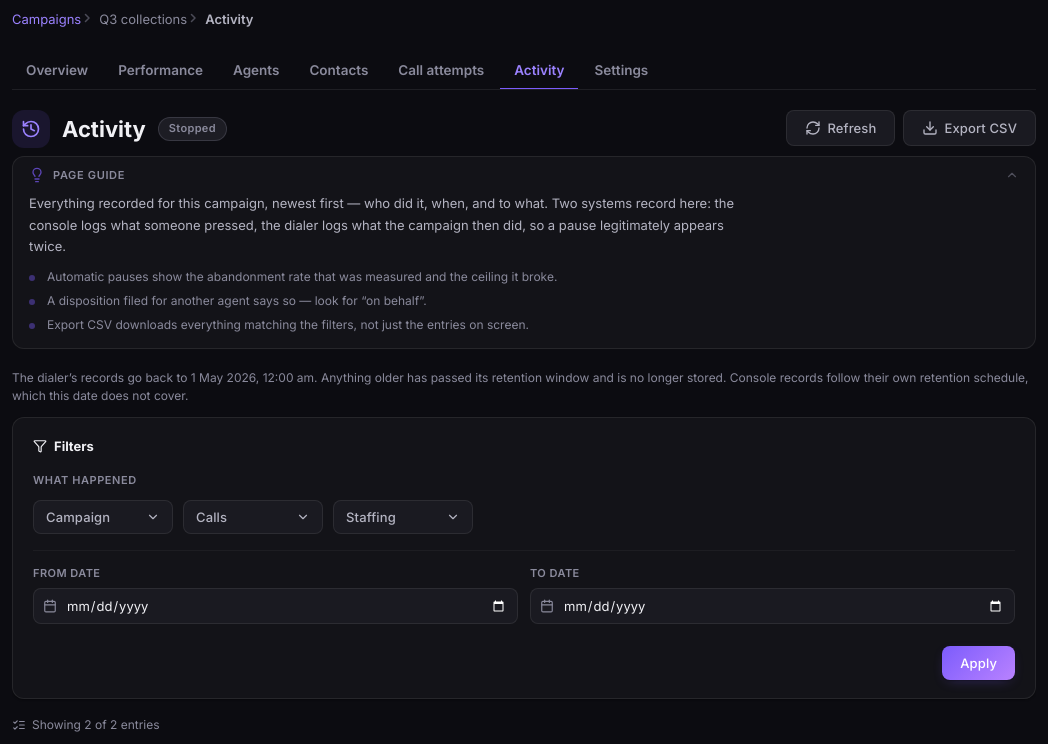
Test: accessibility › updates the live count when a filter narrows the trail
Expected: the element with test id "activity-count" reads "Showing 2 of 2 entries", top-left (32, 718), bottom-right (160, 732)
What coordinates should you click on to do the following:
click the button "Calls"
I would click on:
 (253, 517)
Its box is top-left (183, 500), bottom-right (323, 534).
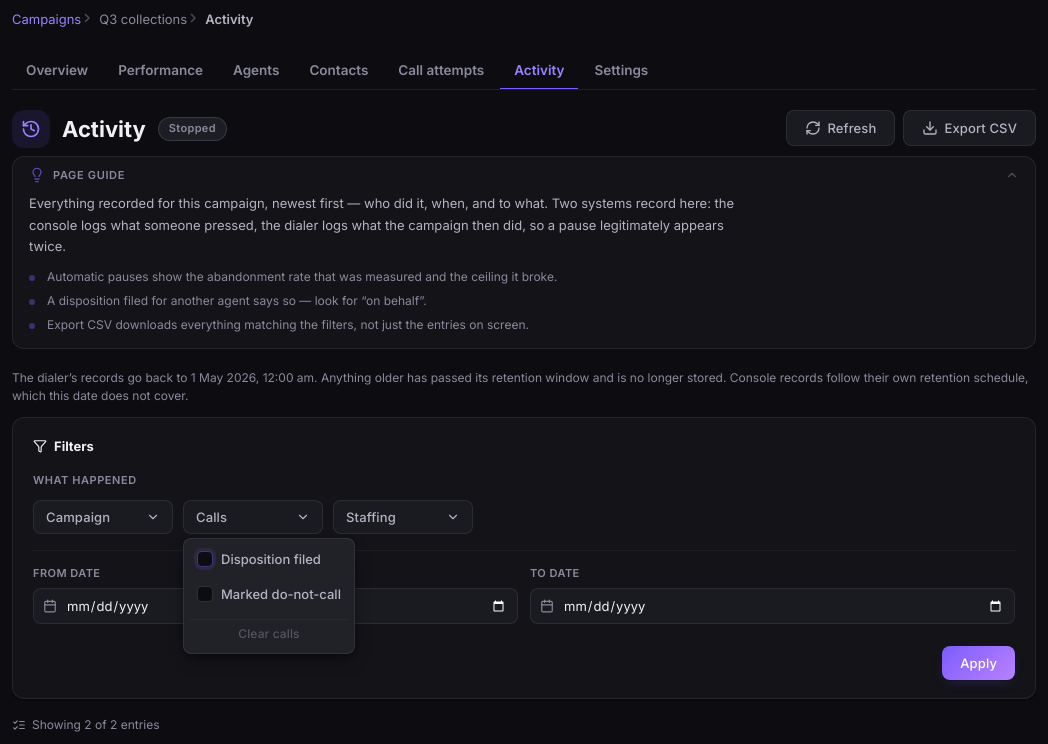
What coordinates should you click on to do the following:
click the checkbox labelled "Disposition filed"
I would click on:
 (205, 559)
Its box is top-left (197, 551), bottom-right (213, 567).
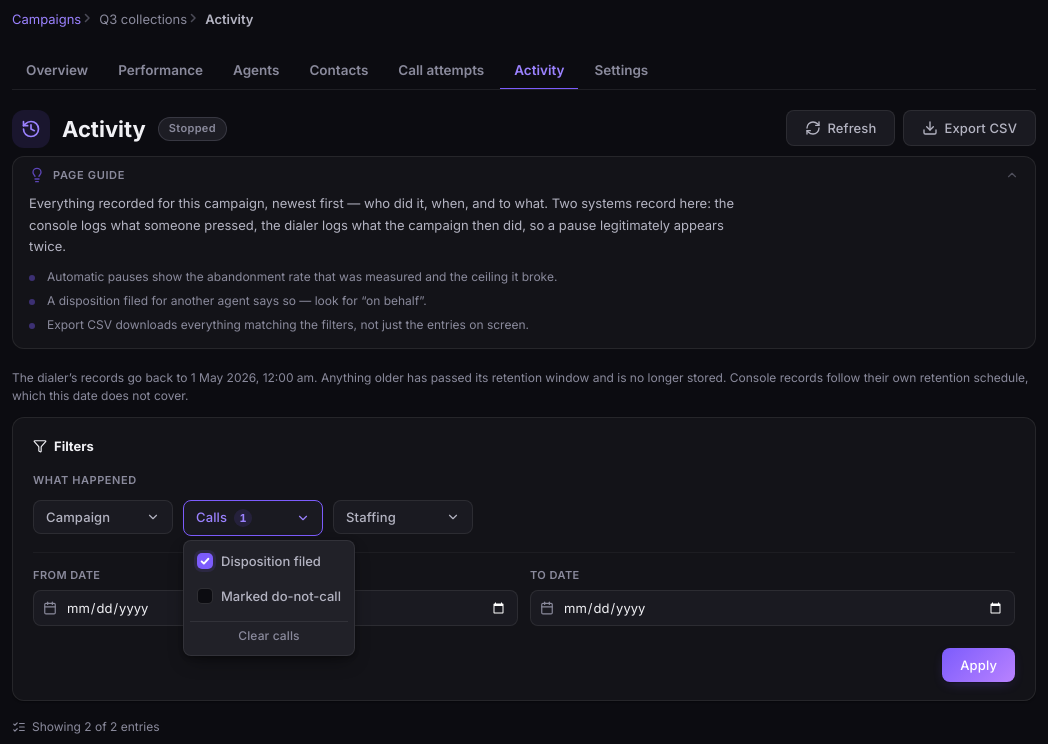
What coordinates should you click on to do the following:
click the button "Apply"
I would click on:
 (979, 666)
Its box is top-left (942, 648), bottom-right (1015, 682).
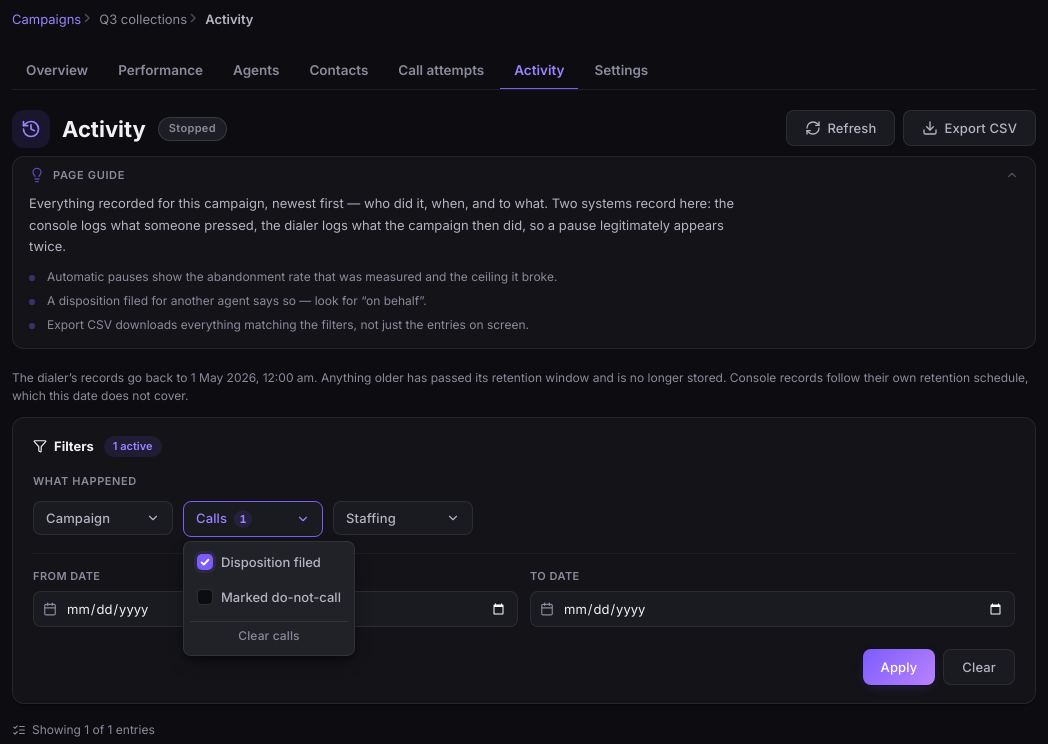
Expected: the element with test id "activity-count" reads "Showing 1 of 1 entries", top-left (32, 722), bottom-right (155, 737)
